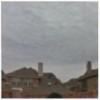chimneys: (38, 61, 44, 79), (86, 61, 93, 73)
